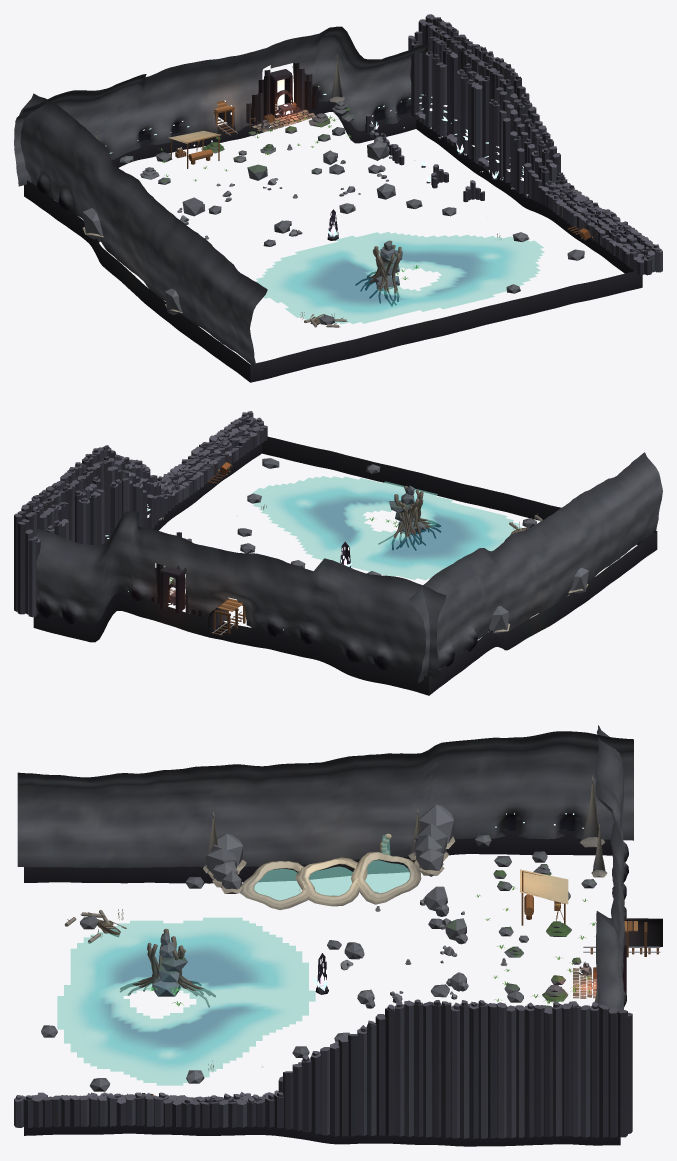
File: caverns.glb
3 views of the same model, one above another, from view 1: azimuth 30°, elevation 25°; view 2: azimuth 150°, elevation 25°; view 3: azimuth 270°, elevation 25° (orthographic). The views are drawn at different scales.
Visible parts, largest first — view 1: Cave_Shell, Cave_Roots, Cave_Water, Cave_Rock, Cave_Glow; view 2: Cave_Shell, Cave_Roots, Cave_Water, Cave_Rock; view 3: Cave_Shell, Cave_Roots, Cave_Water, Cave_Rock, Cave_Thermal.
Boxes of the visible parts, box(x1,y1,x2,y2) form: Cave_Shell: box(14, 26, 642, 382); Cave_Roots: box(355, 14, 662, 306); Cave_Water: box(256, 232, 544, 324); Cave_Rock: box(82, 55, 600, 327); Cave_Glow: box(105, 79, 528, 216); Cave_Shell: box(33, 436, 662, 695); Cave_Roots: box(14, 411, 440, 617); Cave_Water: box(250, 476, 521, 580); Cave_Rock: box(151, 453, 588, 636); Cave_Shell: box(17, 725, 633, 1146); Cave_Roots: box(14, 928, 632, 1138); Cave_Water: box(57, 917, 315, 1085); Cave_Rock: box(41, 776, 662, 1095); Cave_Thermal: box(254, 835, 409, 900).
Size of what is drawn, in the model's own units: 48.11 by 14.51 by 48.96.
